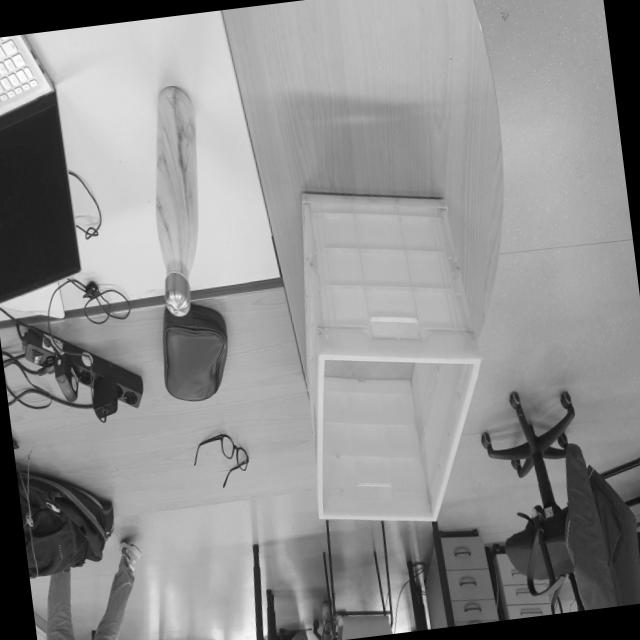box: (274, 158, 507, 554)
